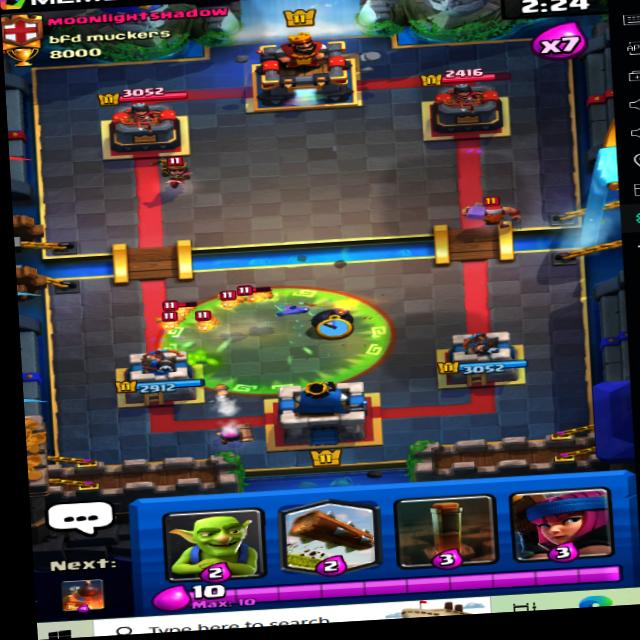goblin-curse: (149, 277, 404, 407)
little-prince: (148, 150, 202, 195)
lumberjack: (461, 191, 525, 236)
